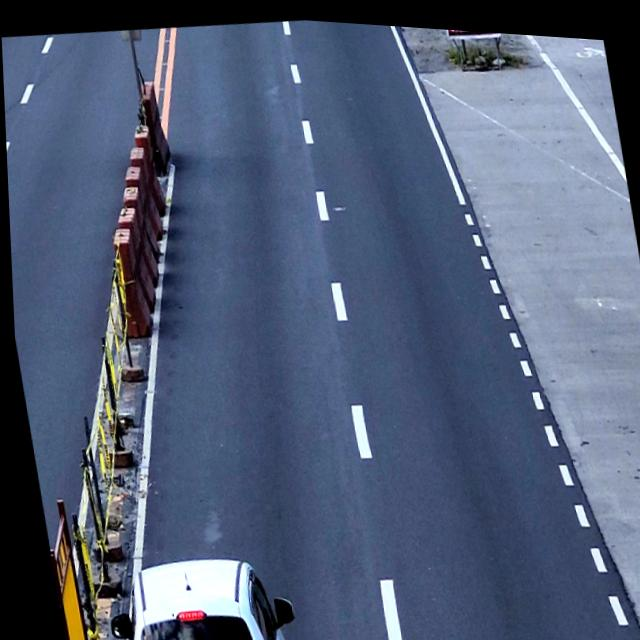Car: (94, 540, 296, 640)
